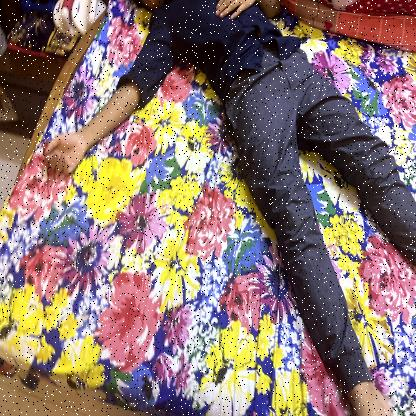hand: (34, 67, 156, 182)
